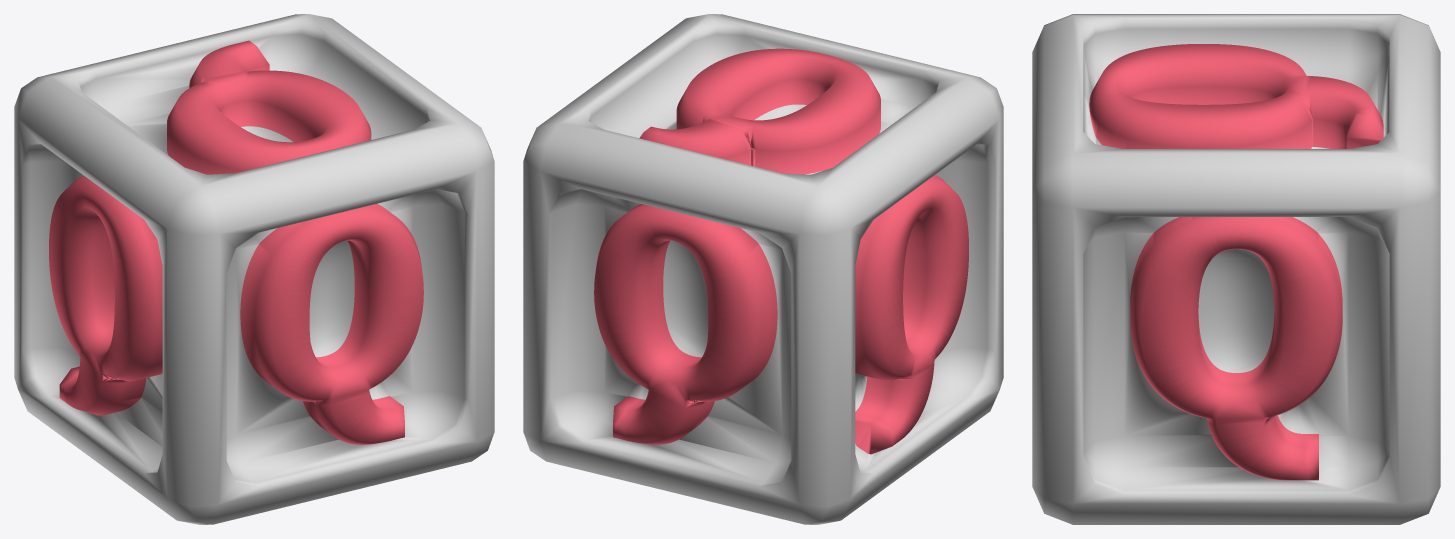
3 views of the same model, side by side, from view 1: azimuth 30°, elevation 25°; view 2: azimuth 150°, elevation 25°; view 3: azimuth 270°, elevation 25° (orthographic). The views are drawn at different scales.
Parts seen in each view (by area): view 1: obj_0; view 2: obj_0; view 3: obj_0.
Boxes of the visible parts, left/top/right/bottom form: obj_0: left=14, top=14, right=494, bottom=524; obj_0: left=523, top=14, right=1003, bottom=524; obj_0: left=1032, top=14, right=1440, bottom=524.
Size of the model in its own units: 100 by 100 by 100.
